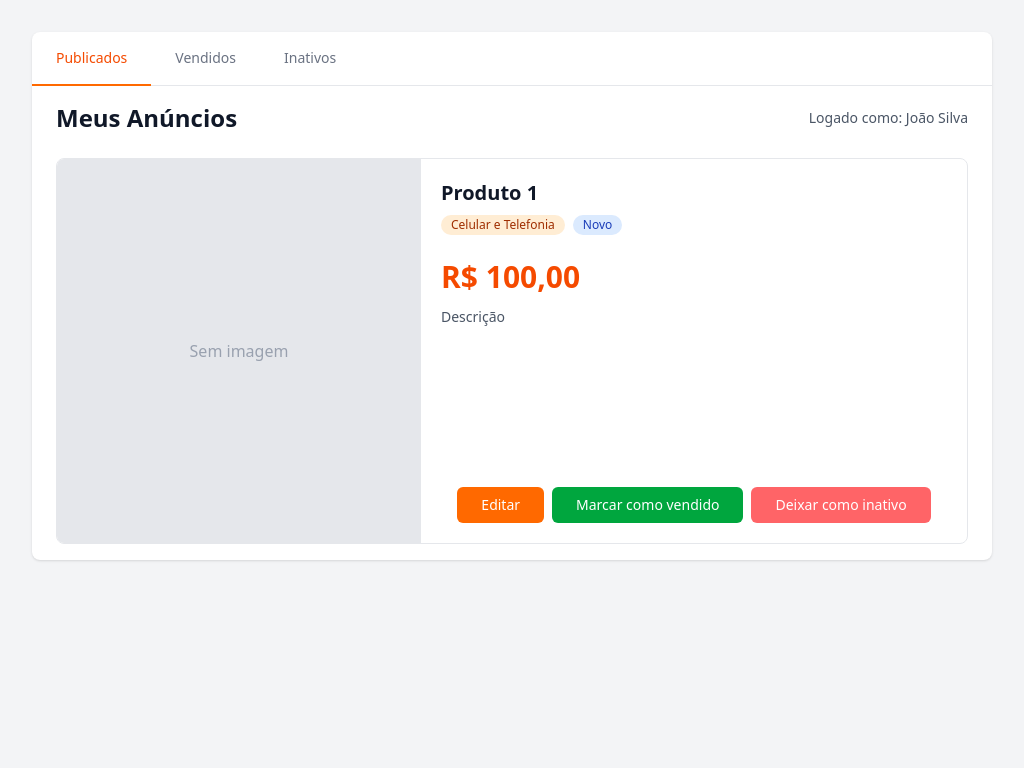
MeusAnuncios Component › deve fechar modal ao cancelar
This screenshot has width=1024, height=768.
Check: the heading "Produto 1" is shown, box x1=441 y1=179 x2=538 y2=206
Click the button "Deixar como inativo".
click(841, 505)  # box x1=752 y1=487 x2=931 y2=523
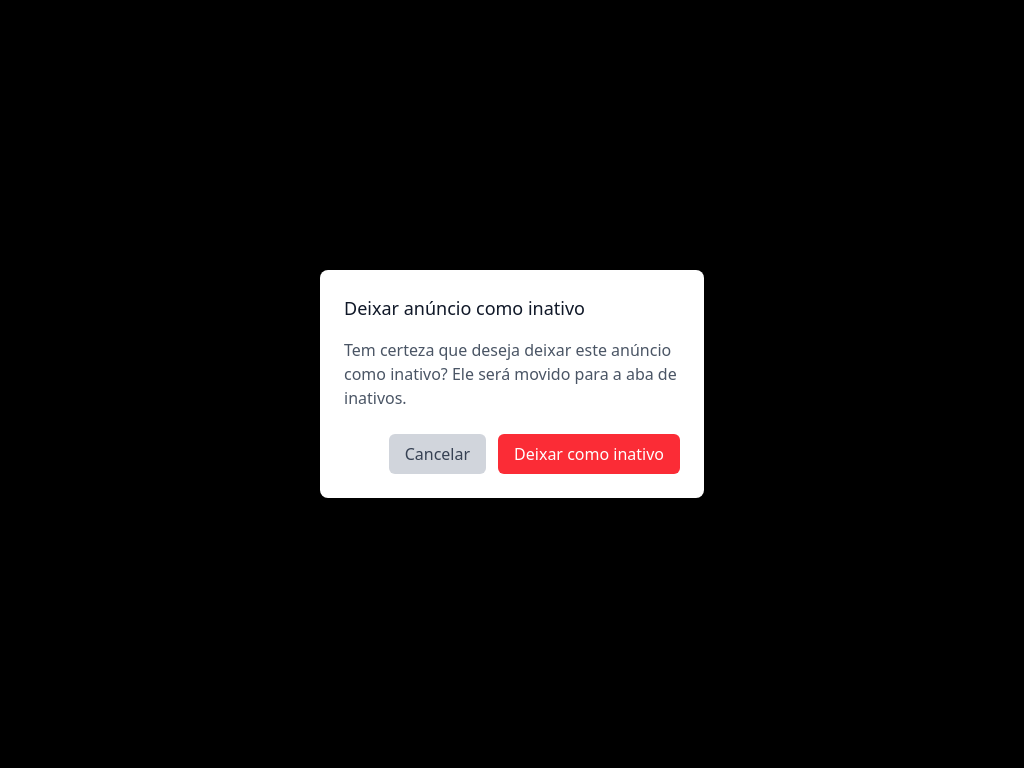
Click the button "Cancelar".
click(437, 454)  # box x1=389 y1=434 x2=486 y2=474
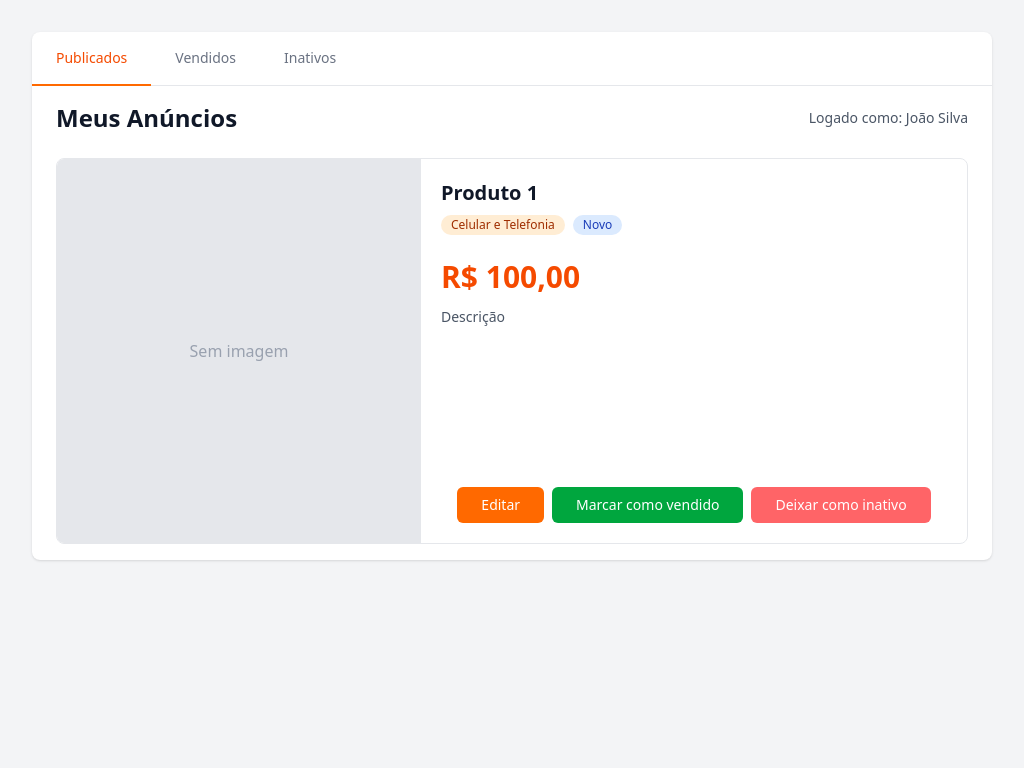
Check: the text "Tem certeza" is gone
